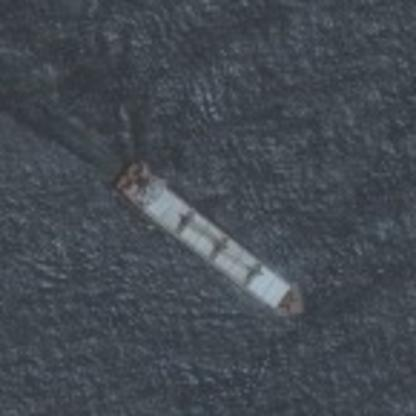ship: (104, 154, 310, 324)
